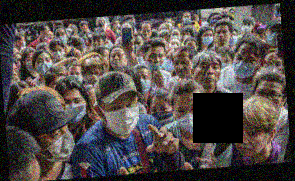mask_weared_incorrect: (145, 52, 166, 73), (90, 38, 103, 51), (256, 30, 267, 43), (42, 28, 52, 42)
with_mask: (102, 99, 141, 136), (41, 124, 76, 164), (174, 103, 207, 134), (231, 51, 257, 79), (64, 97, 87, 125), (150, 104, 175, 128), (259, 58, 284, 74), (83, 69, 102, 87), (35, 57, 53, 76), (265, 27, 282, 47), (138, 72, 151, 97), (161, 54, 174, 72), (50, 47, 64, 62), (54, 31, 68, 46), (67, 70, 83, 83), (201, 32, 214, 47), (131, 40, 144, 55), (134, 51, 147, 66), (25, 56, 35, 73), (240, 21, 253, 34), (219, 56, 231, 70), (228, 32, 238, 47), (169, 40, 181, 51), (169, 31, 182, 41), (181, 32, 193, 42), (89, 95, 98, 108), (84, 41, 92, 53), (160, 26, 170, 35), (96, 19, 105, 29), (221, 10, 230, 19), (20, 38, 27, 49), (208, 23, 216, 32), (182, 15, 190, 24), (165, 20, 173, 29), (114, 21, 120, 29), (132, 18, 137, 27), (196, 16, 200, 23)
without_mask: (230, 123, 265, 158), (193, 61, 221, 89), (253, 86, 283, 110), (173, 57, 192, 80), (109, 51, 128, 70), (214, 29, 231, 45), (140, 27, 152, 40), (10, 66, 18, 83), (102, 52, 110, 68), (80, 24, 87, 32)
